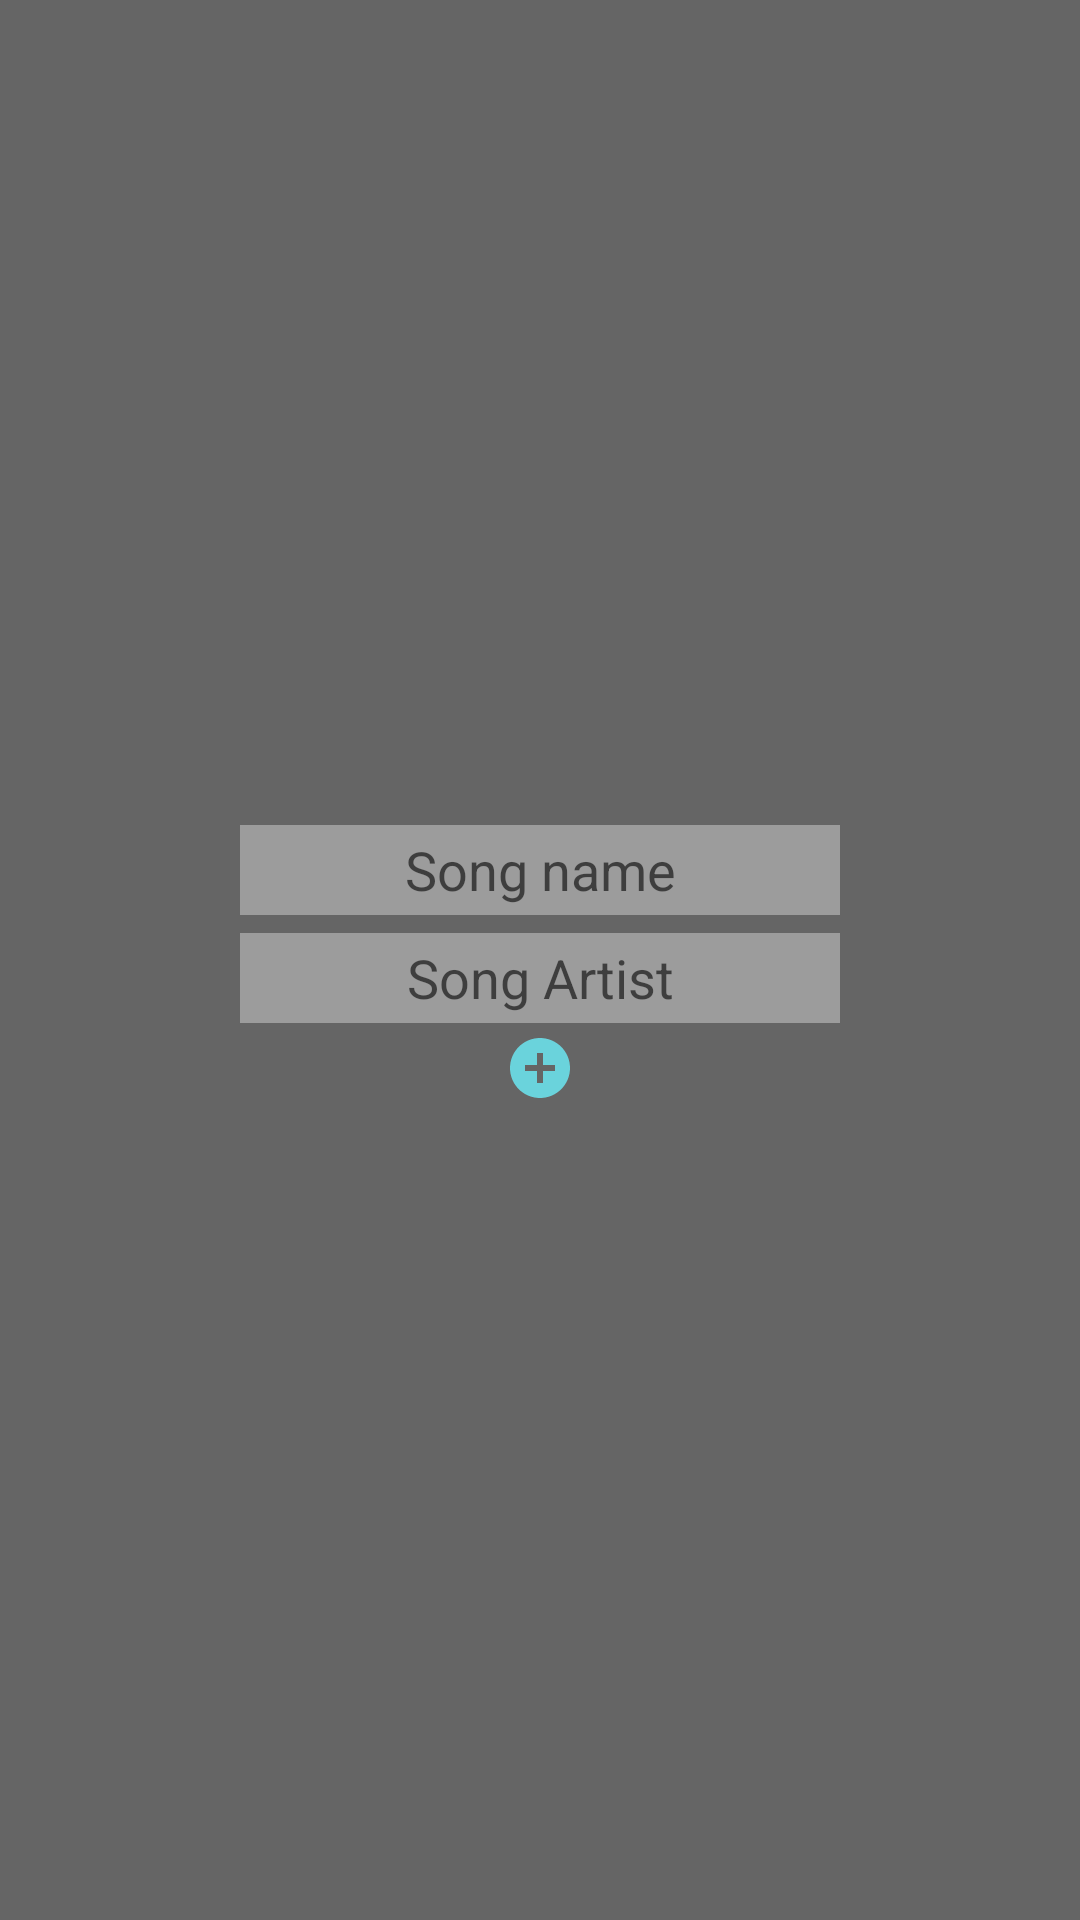

Icon click points for this 1080 x 1920 phone screenshot, format point (x, y):
add circle: point (540, 1068)
